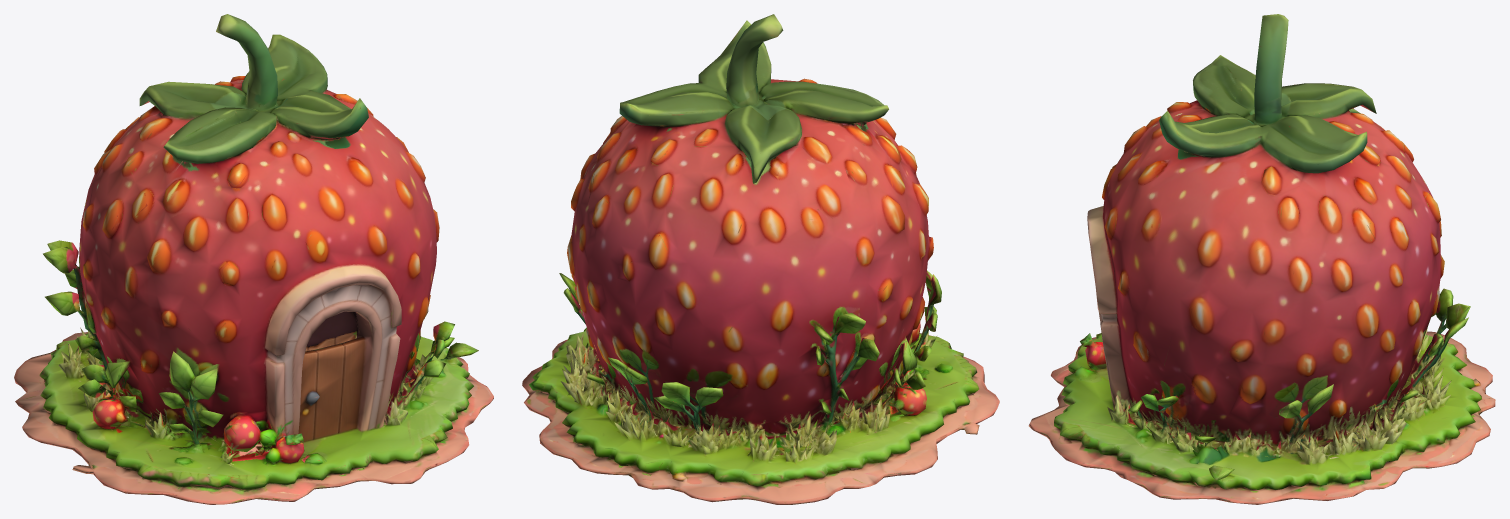
The model's file is Meshy_AI_Generate_a_vibrant_ca_0114095158_texture.fbx.
3 views of the same model, side by side, from view 1: azimuth 30°, elevation 25°; view 2: azimuth 150°, elevation 25°; view 3: azimuth 270°, elevation 25° (orthographic).
Visible parts, largest first — view 1: Mesh1.0; view 2: Mesh1.0; view 3: Mesh1.0.
Boxes of the visible parts, box(x1,y1,x2,y2) form: Mesh1.0: box(14, 14, 493, 504); Mesh1.0: box(522, 14, 999, 504); Mesh1.0: box(1028, 14, 1495, 504).
Size of the model in its own units: 188 by 174 by 191.
Materials: 1 (1 with a texture image).
